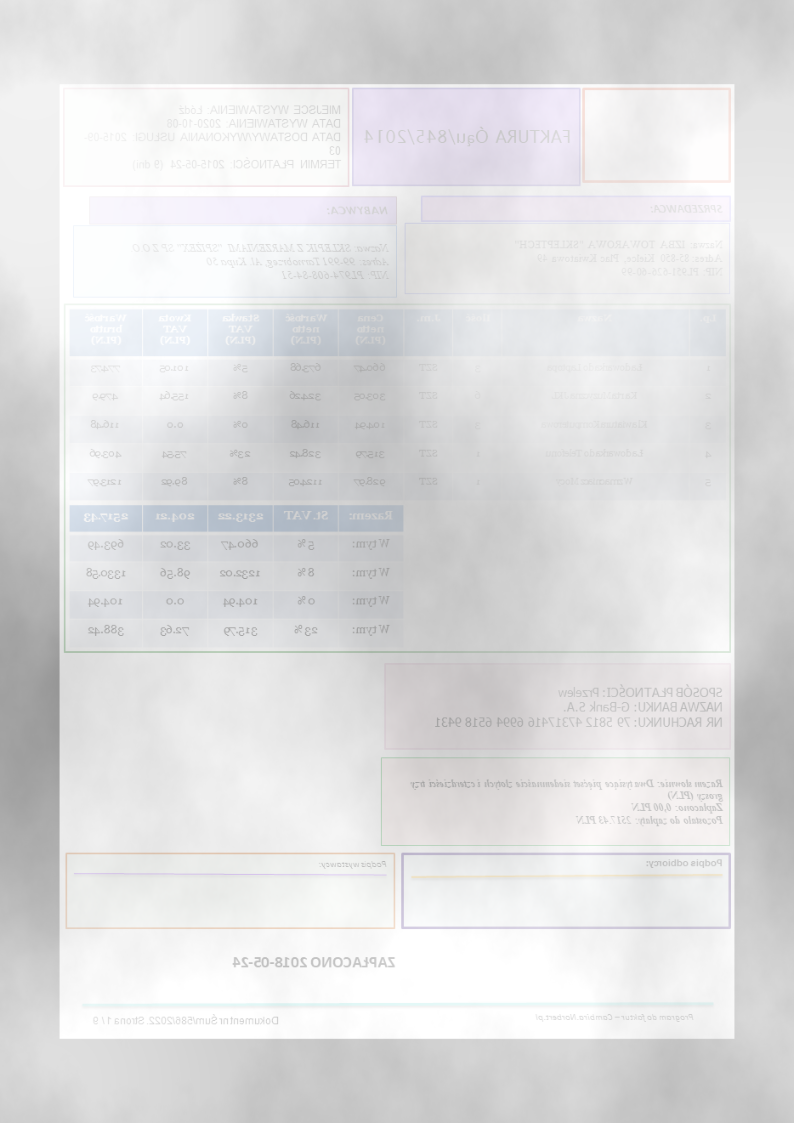Table: (71, 306, 728, 500), (68, 502, 405, 649)
TextBox: (82, 100, 344, 173), (407, 774, 726, 827), (431, 681, 725, 733), (128, 239, 391, 281), (513, 235, 726, 281), (362, 123, 574, 150), (230, 952, 397, 972), (93, 1012, 282, 1027), (535, 1010, 696, 1023), (319, 854, 389, 872), (643, 855, 725, 870), (649, 201, 724, 217), (325, 202, 392, 219)
